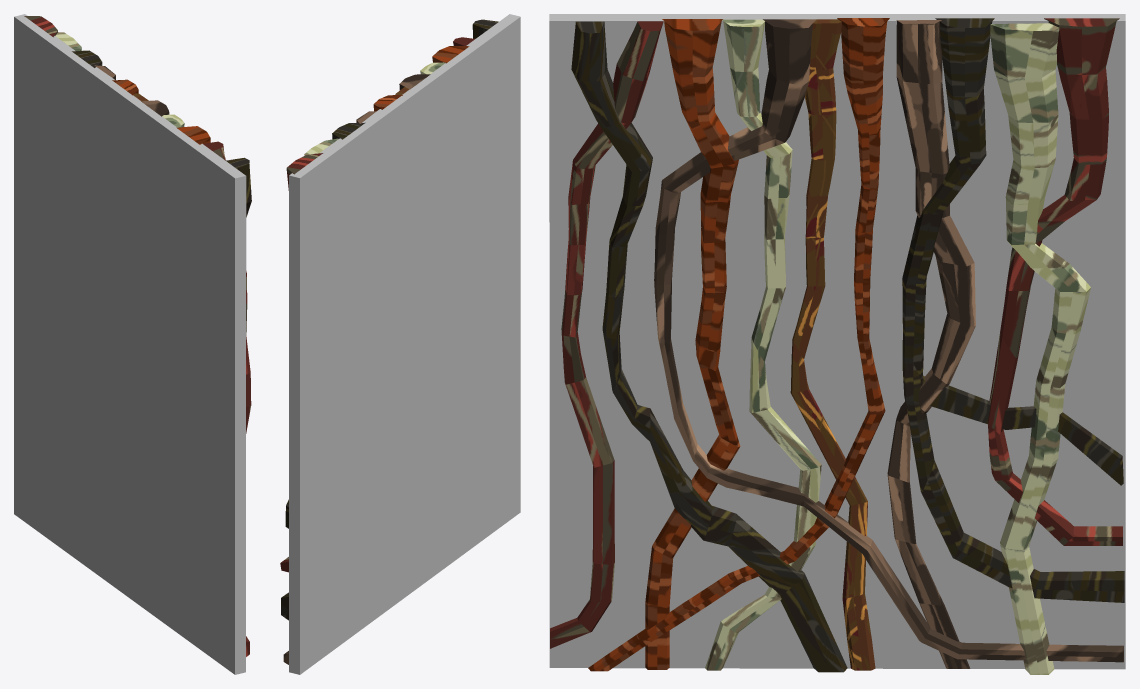
File: PastInter.fbx
3 views of the same model, side by side, from view 1: azimuth 30°, elevation 25°; view 2: azimuth 150°, elevation 25°; view 3: azimuth 270°, elevation 25° (orthographic). The views are drawn at different scales.
Visible parts, largest first — view 1: Árboles.001; view 2: Árboles.001; view 3: Árboles.001.
Boxes of the visible parts, x1,y1,x2,y2 form: Árboles.001: [14, 14, 251, 674]; Árboles.001: [280, 14, 520, 674]; Árboles.001: [549, 14, 1125, 674].
Size of the model in its own units: 156 by 2485 by 1998.
